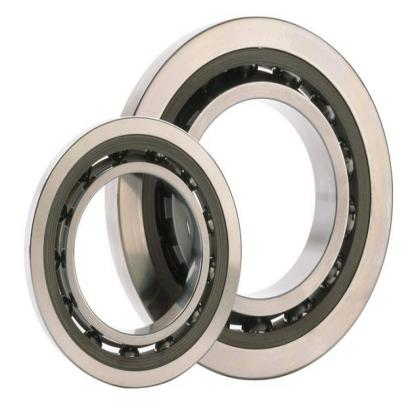FOD: (100, 8, 399, 384), (20, 114, 244, 390)
